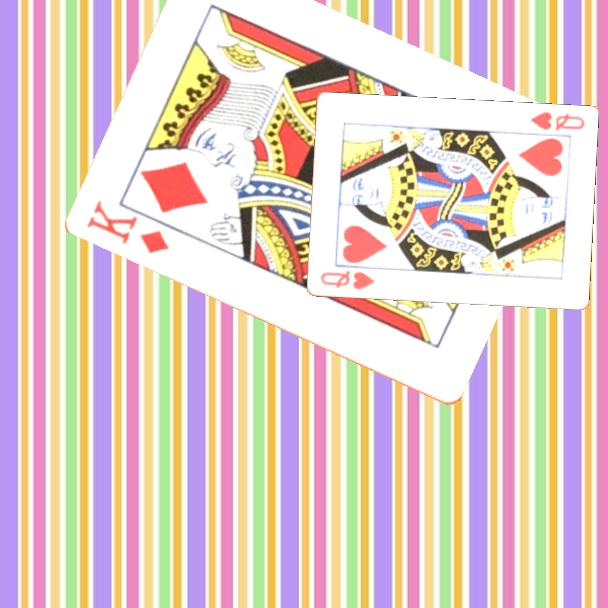d13: (82, 196, 172, 257)
h12: (317, 267, 377, 293), (526, 109, 587, 134)
